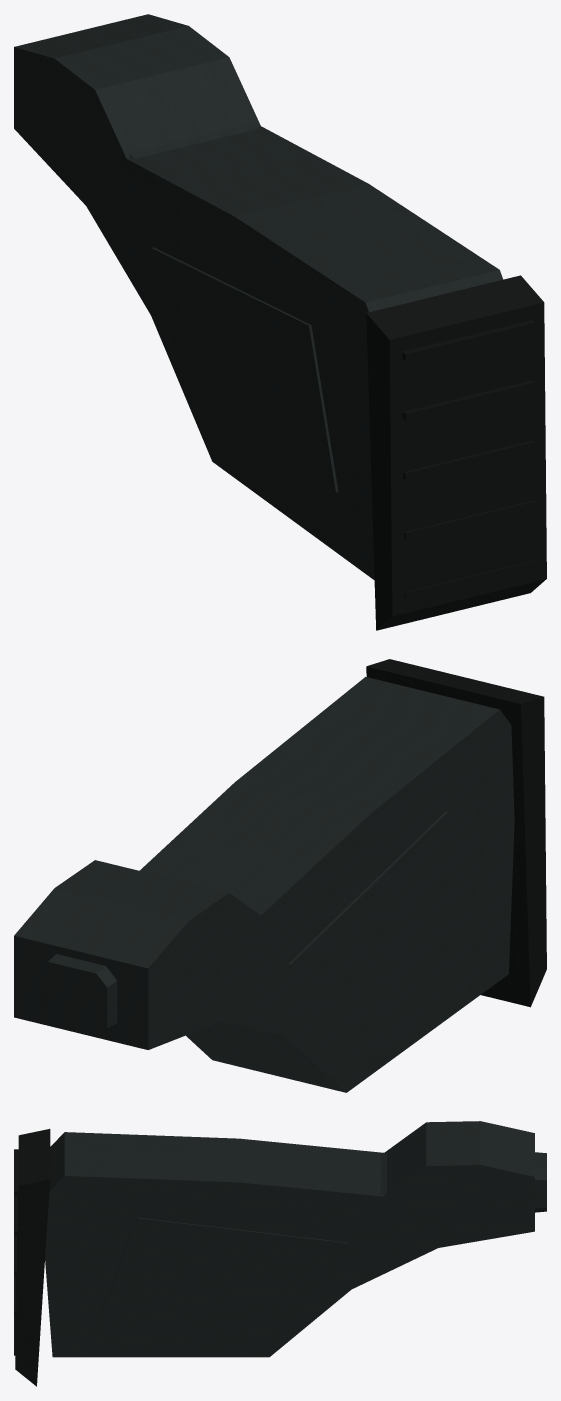
Rendered from rpk_stock.glb.
The picture shows the model from 3 angles, top to bottom: view 1: azimuth 30°, elevation 25°; view 2: azimuth 150°, elevation 25°; view 3: azimuth 270°, elevation 25°; orthographic projection. The views are drawn at different scales.
Parts seen in each view (by area): view 1: stock__rpk_stock_LOD0_RAID_Secondary_Original_polymer, stock__rpk_stock_LOD1_RAID_Secondary_Original_polymer, stock__rpk_stock_LOD0_RAID_Secondary_Original_rubber, stock__rpk_stock_LOD1_RAID_Secondary_Original_rubber; view 2: stock__rpk_stock_LOD0_RAID_Secondary_Original_polymer, stock__rpk_stock_LOD1_RAID_Secondary_Original_polymer, stock__rpk_stock_LOD0_RAID_Secondary_Original_rubber, stock__rpk_stock_LOD1_RAID_Secondary_Original_rubber; view 3: stock__rpk_stock_LOD0_RAID_Secondary_Original_polymer, stock__rpk_stock_LOD1_RAID_Secondary_Original_polymer, stock__rpk_stock_LOD0_RAID_Secondary_Original_rubber, stock__rpk_stock_LOD1_RAID_Secondary_Original_rubber.
Boxes of the visible parts, x1,y1,x2,y2 form: stock__rpk_stock_LOD0_RAID_Secondary_Original_polymer: (16,16,498,573); stock__rpk_stock_LOD1_RAID_Secondary_Original_polymer: (14,14,503,580); stock__rpk_stock_LOD0_RAID_Secondary_Original_rubber: (366,277,544,628); stock__rpk_stock_LOD1_RAID_Secondary_Original_rubber: (366,275,546,630); stock__rpk_stock_LOD0_RAID_Secondary_Original_polymer: (18,680,514,1089); stock__rpk_stock_LOD1_RAID_Secondary_Original_polymer: (14,677,514,1092); stock__rpk_stock_LOD0_RAID_Secondary_Original_rubber: (368,660,545,1003); stock__rpk_stock_LOD1_RAID_Secondary_Original_rubber: (366,659,546,1007); stock__rpk_stock_LOD0_RAID_Secondary_Original_polymer: (45,1122,546,1353); stock__rpk_stock_LOD1_RAID_Secondary_Original_polymer: (45,1121,534,1357); stock__rpk_stock_LOD0_RAID_Secondary_Original_rubber: (14,1130,49,1377); stock__rpk_stock_LOD1_RAID_Secondary_Original_rubber: (15,1129,50,1386).
Bounding box in the file's own units: 0.099 × 0.2 × 0.442.
Materials: 2 (2 with a texture image).
